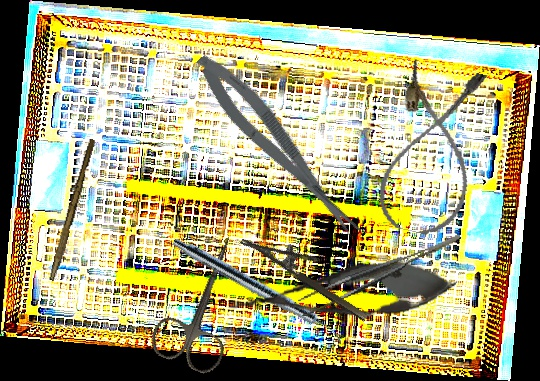Cannula: (372, 57, 493, 242)
Handpiece: (168, 234, 349, 346)
Iris Scissors: (145, 224, 265, 378)
Micro Scissor: (186, 44, 369, 250), (223, 252, 460, 334)
Needle Holder: (239, 218, 380, 323)
Scalpel Handle: (48, 137, 97, 283)
Tissue Forceps: (292, 234, 470, 317)
